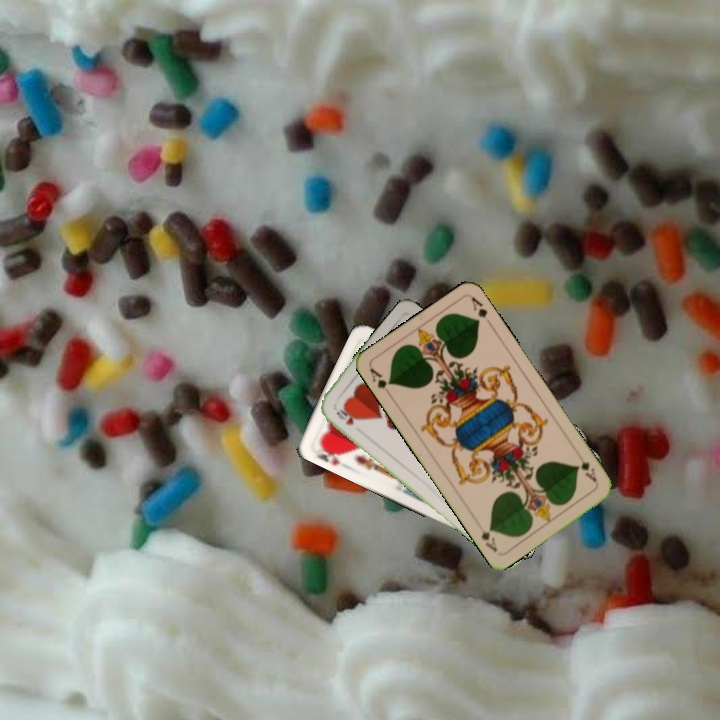GA: (366, 364, 394, 399), (573, 457, 600, 487)
HK: (312, 439, 347, 468)
HO: (332, 404, 360, 428)
